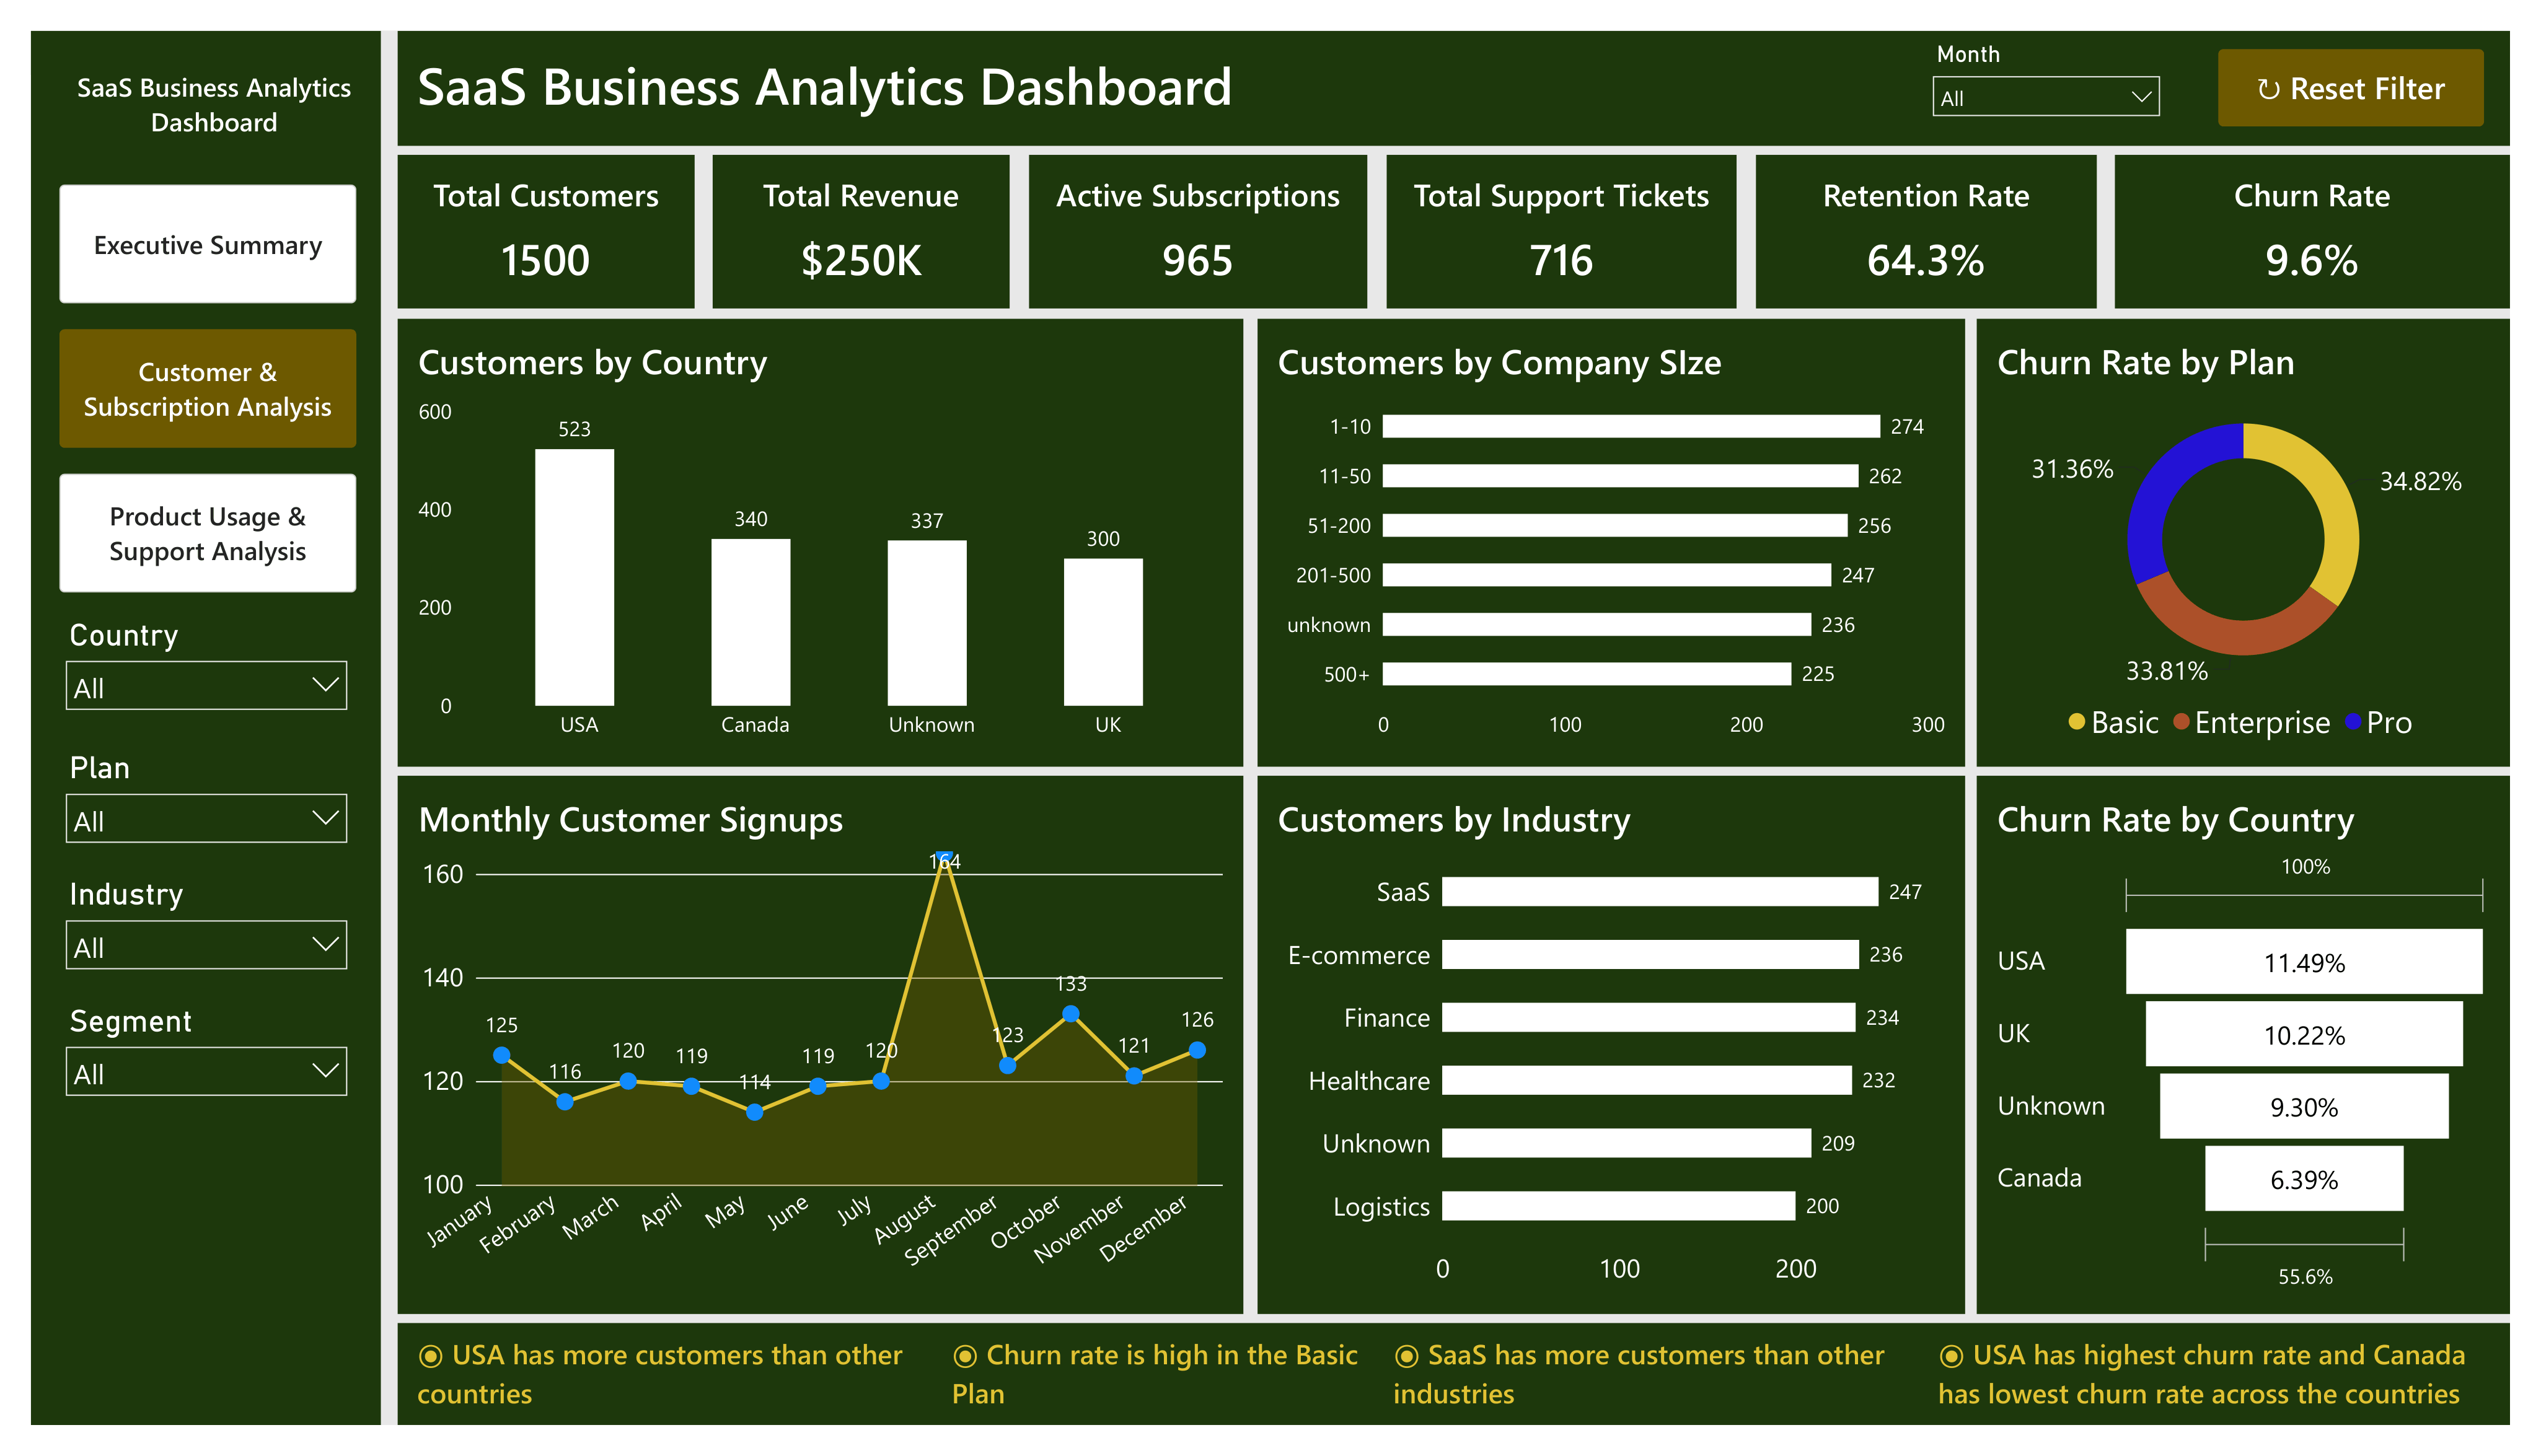

Layout of this report page (visuals, bound fields, positions):
{"tool":"powerbi","page":{"name":"Customer & Subscription Analysis","canvas":[1920,1080],"ordinal":1},"visuals":[{"type":"shape","box":[0,0,271.4,1080.4],"z":0},{"type":"shape","box":[284.1,0,1635.9,88.7],"z":1000},{"type":"pageNavigator","box":[21.7,119.4,229.8,316.7],"z":2000},{"type":"slicer","fields":{"Values":["customers.Country"]},"box":[21.7,454.2,228,79.6],"z":3000},{"type":"slicer","fields":{"Values":["plans.Plan_Name"]},"box":[21.7,557.4,228,79.6],"z":4000},{"type":"slicer","fields":{"Values":["customers.Industry"]},"box":[21.7,655.1,228,79.6],"z":5000},{"type":"slicer","fields":{"Values":["customers.Segment"]},"box":[21.7,752.8,228,79.6],"z":6000},{"type":"textbox","title":"SaaS Business Analytics Dashboard","box":[298.6,14.5,640.6,59.7],"z":7000},{"type":"textbox","title":"SaaS Business Analytics Dashboard","box":[34.4,29,215.3,59.7],"z":8000},{"type":"slicer","fields":{"Values":["subscriptions.Start_Date.Variation.Date Hierarchy.Month"]},"box":[1467.6,7.2,186.4,74.2],"z":9000},{"type":"card","title":"Total Customers","fields":{"Values":["Table.totalcustomers"]},"box":[284.1,95.9,229.8,119.4],"z":10000},{"type":"clusteredColumnChart","title":"Customers by Country","fields":{"Category":["customers.Country"],"Y":["CountNonNull(customers.Company_Size)"]},"box":[284.1,222.6,655.1,347.5],"z":11000},{"type":"lineChart","title":"Monthly Customer Signups","fields":{"Category":["customers.Signup_Date.Variation.Date Hierarchy.Month"],"Y":["CountNonNull(customers.Customer_Id)"]},"box":[284.1,577.3,655.1,416.2],"z":12000},{"type":"clusteredBarChart","title":"Customers by Industry","fields":{"Category":["customers.Industry"],"Y":["CountNonNull(subscriptions.Status)"]},"box":[950.1,577.3,548.3,416.2],"z":13000},{"type":"barChart","title":"Customers by Company SIze","fields":{"Category":["customers.Company_Size"],"Y":["CountNonNull(customers.Customer_Id)"]},"box":[950.1,222.6,548.3,347.5],"z":14000},{"type":"donutChart","title":"Churn Rate by Plan","fields":{"Category":["plans.Plan_Name"],"Y":["Table.churnrate"]},"box":[1507.4,222.6,412.6,347.5],"z":15000},{"type":"funnel","title":"Churn Rate by Country","fields":{"Category":["customers.Country"],"Y":["Table.churnrate"]},"box":[1507.4,577.3,412.6,416.2],"z":16000},{"type":"card","title":"Total Revenue","fields":{"Values":["Table.totalrevenue"]},"box":[528.4,95.9,229.8,119.4],"z":17000},{"type":"card","title":"Active Subscriptions","fields":{"Values":["Table.activesubscriptions"]},"box":[772.7,95.9,262.4,119.4],"z":18000},{"type":"card","title":"Churn Rate","fields":{"Values":["Table.churnrate"]},"box":[1614.2,95.9,305.8,119.4],"z":19000},{"type":"card","title":"Total Support Tickets","fields":{"Values":["Table.totalsupporttickets"]},"box":[1049.6,95.9,271.4,119.4],"z":20000},{"type":"shape","box":[284.1,1000.7,1635.9,79.6],"z":21000},{"type":"textbox","title":"⦿ USA has more customers  than other countries","box":[298.6,1009.8,396.3,57.9],"z":22000},{"type":"textbox","title":"⦿ Churn rate is high in the Basic Plan","box":[713,1009.8,331.2,57.9],"z":23000},{"type":"textbox","title":"⦿ SaaS has more customers than other industries","box":[1055,1009.8,412.6,57.9],"z":24000},{"type":"textbox","title":"⦿ USA has highest churn rate and Canada has lowest churn rate across the countries","box":[1476.7,1009.8,412.6,57.9],"z":25000},{"type":"card","title":"Retention Rate","fields":{"Values":["Table.retentionrate"]},"box":[1335.5,95.9,264.2,119.4],"z":26000},{"type":"actionButton","box":[1693.8,14.5,206.3,59.7],"z":27000}]}

Visuals, with their boxes in screenshot pixels (x1, y1, x2, y2):
shape: 13,20,368,1429
shape: 384,20,2519,136
pageNavigator: 42,175,341,589
slicer - customers.Country: 42,613,339,716
slicer - plans.Plan_Name: 42,747,339,851
slicer - customers.Industry: 42,875,339,978
slicer - customers.Segment: 42,1002,339,1106
"SaaS Business Analytics Dashboard" textbox: 403,39,1239,116
"SaaS Business Analytics Dashboard" textbox: 58,58,339,136
slicer - subscriptions.Start_Date.Variation.Date Hierarchy.Month: 1929,29,2172,126
"Total Customers" card: 384,145,684,300
"Customers by Country" clusteredColumnChart: 384,310,1239,764
"Monthly Customer Signups" lineChart: 384,773,1239,1316
"Customers by Industry" clusteredBarChart: 1253,773,1969,1316
"Customers by Company SIze" barChart: 1253,310,1969,764
"Churn Rate by Plan" donutChart: 1981,310,2519,764
"Churn Rate by Country" funnel: 1981,773,2519,1316
"Total Revenue" card: 703,145,1003,300
"Active Subscriptions" card: 1022,145,1364,300
"Churn Rate" card: 2120,145,2519,300
"Total Support Tickets" card: 1383,145,1737,300
shape: 384,1325,2519,1429
"⦿ USA has more customers  than other countries" textbox: 403,1338,920,1413
"⦿ Churn rate is high in the Basic Plan" textbox: 944,1338,1376,1413
"⦿ SaaS has more customers than other industries" textbox: 1390,1338,1929,1413
"⦿ USA has highest churn rate and Canada has lowest churn rate across the countries" textbox: 1940,1338,2479,1413
"Retention Rate" card: 1756,145,2101,300
actionButton: 2224,39,2493,116
